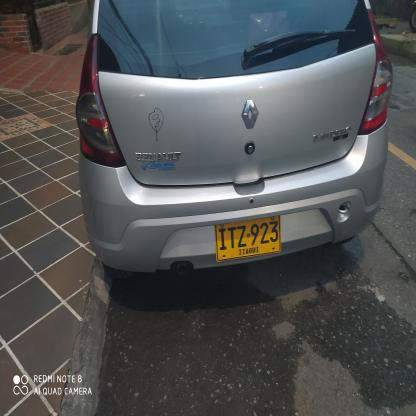placa: (211, 214, 283, 262)
